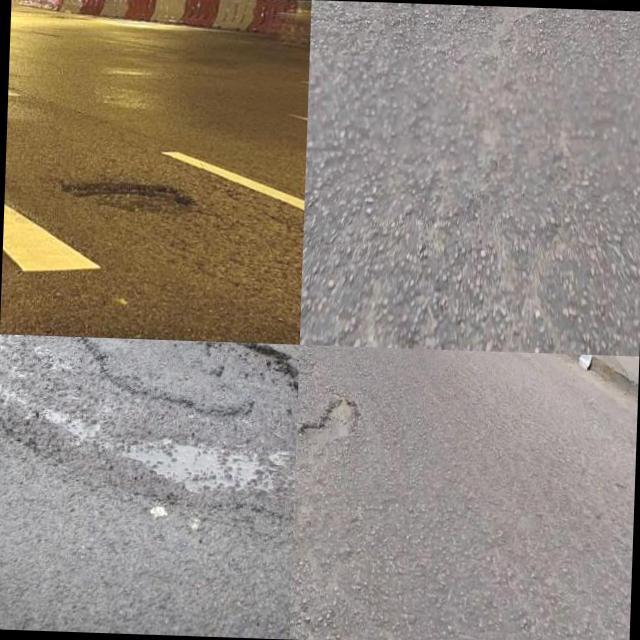Pothole: (0, 334, 298, 518), (63, 182, 187, 208), (302, 398, 360, 439), (480, 5, 555, 24)
